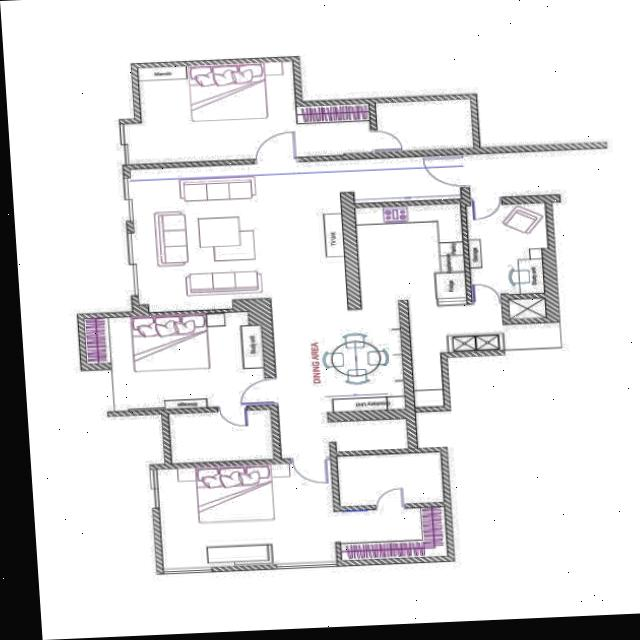room: (130, 157, 348, 313), (125, 58, 369, 162), (158, 461, 335, 569), (84, 310, 266, 412), (355, 203, 464, 301), (306, 311, 404, 412), (465, 200, 550, 296), (336, 450, 442, 505), (168, 408, 270, 463), (339, 507, 445, 559), (377, 98, 473, 149)
